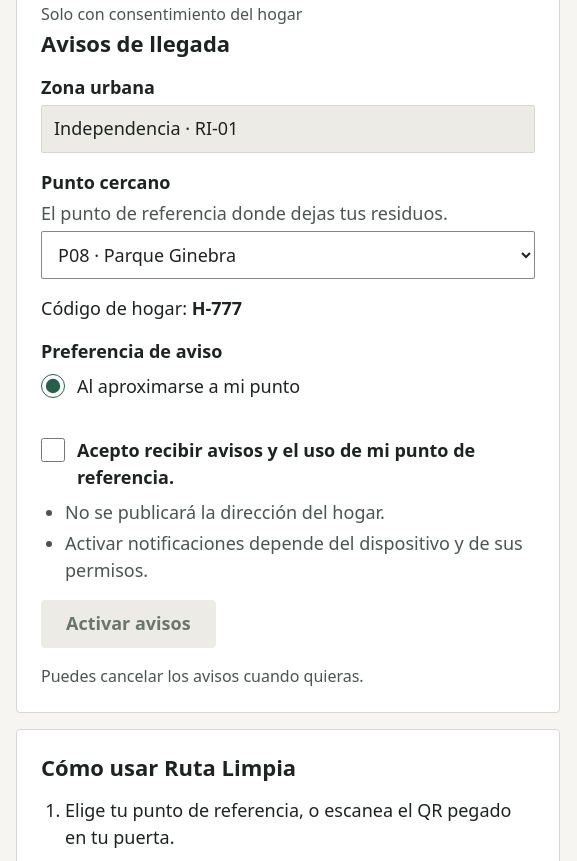
Scenario: CitizenHomePage › alert subscription › explains a household enrolled on another route
(page scrolled)
Click the checkbox labelled "Acepto recibir avisos y el uso de mi punto de referencia." at (53, 450), box [41,438,65,462]
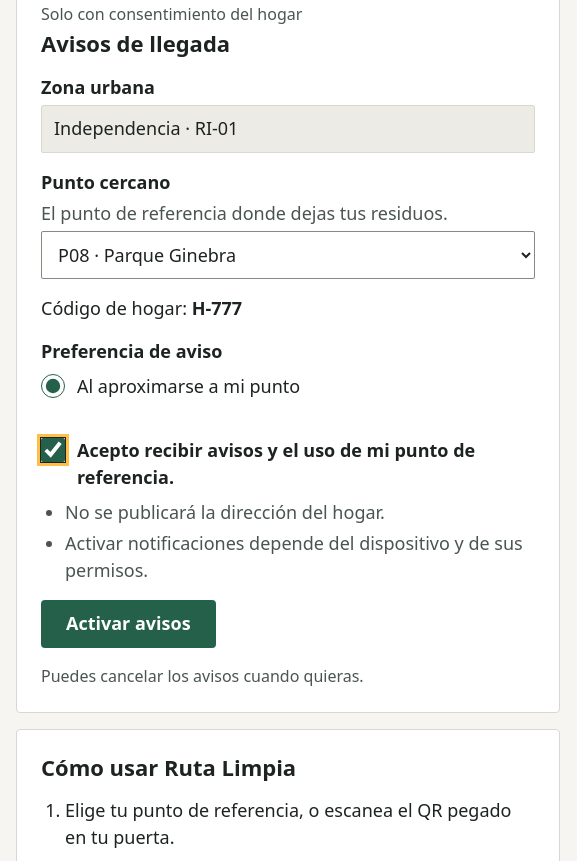
Click the button "Activar avisos" at (128, 624), box [41,600,216,648]
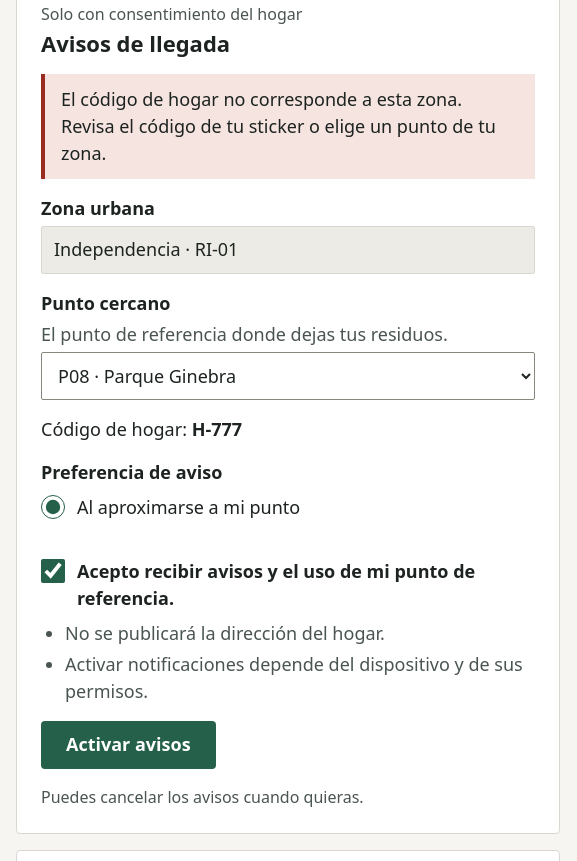
Expected: the message shows "El código de hogar no corresponde a esta zona", [61,86,496,164]
